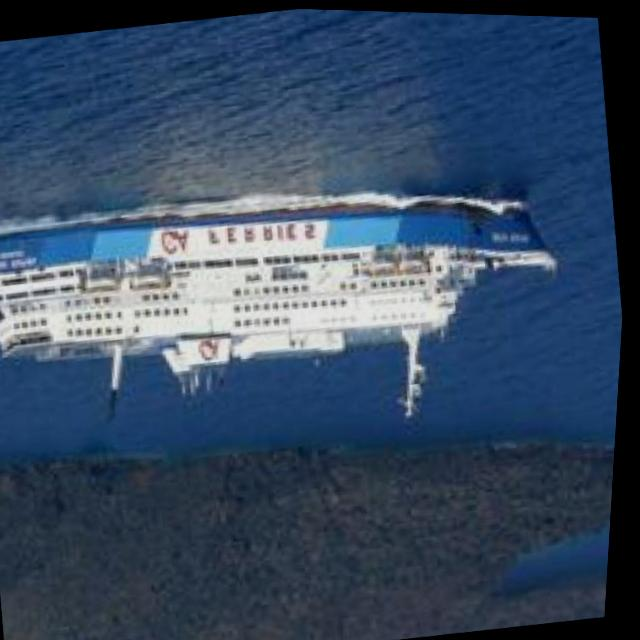ship2: (0, 193, 562, 416)
